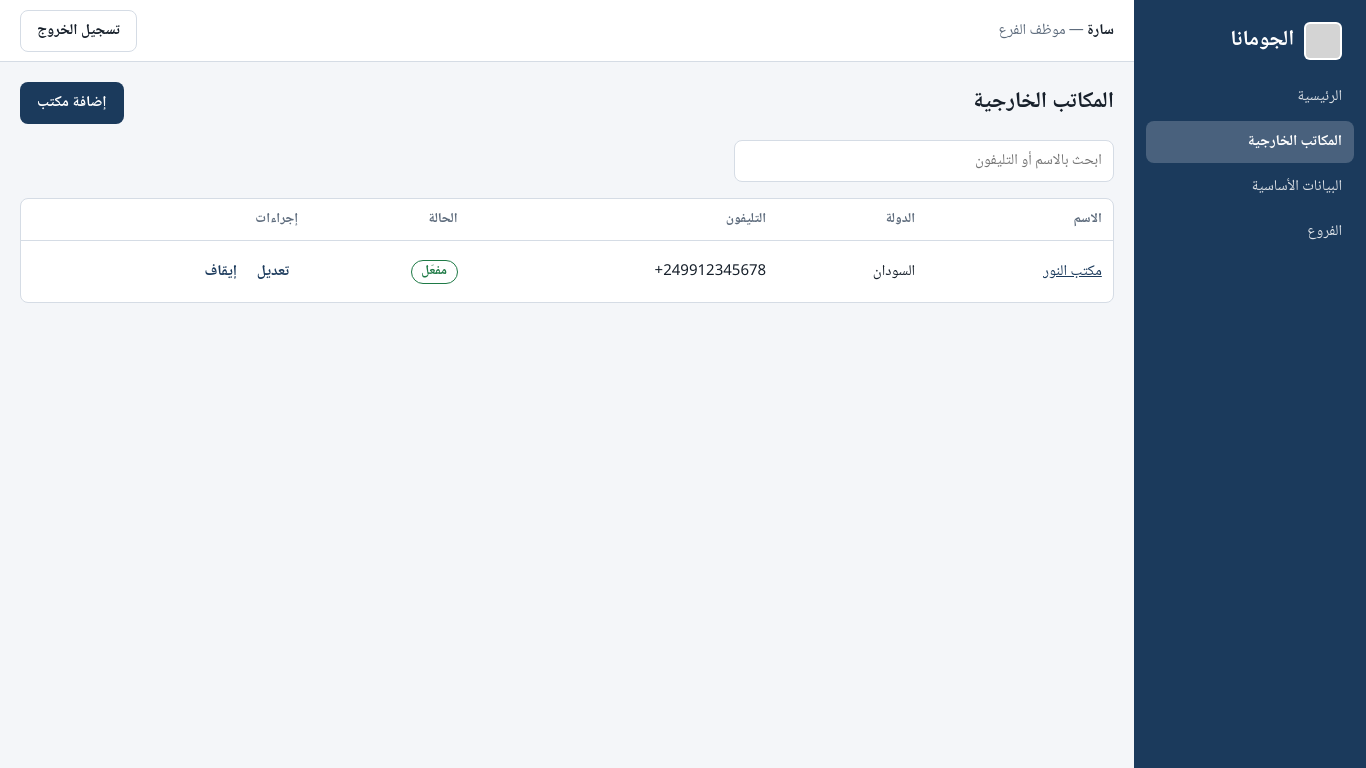
Test case: agents list › lists offices, links to their file and adds a new one
The image size is (1366, 768).
Click the button "إضافة مكتب" at (72, 103), box [20,82,124,124]
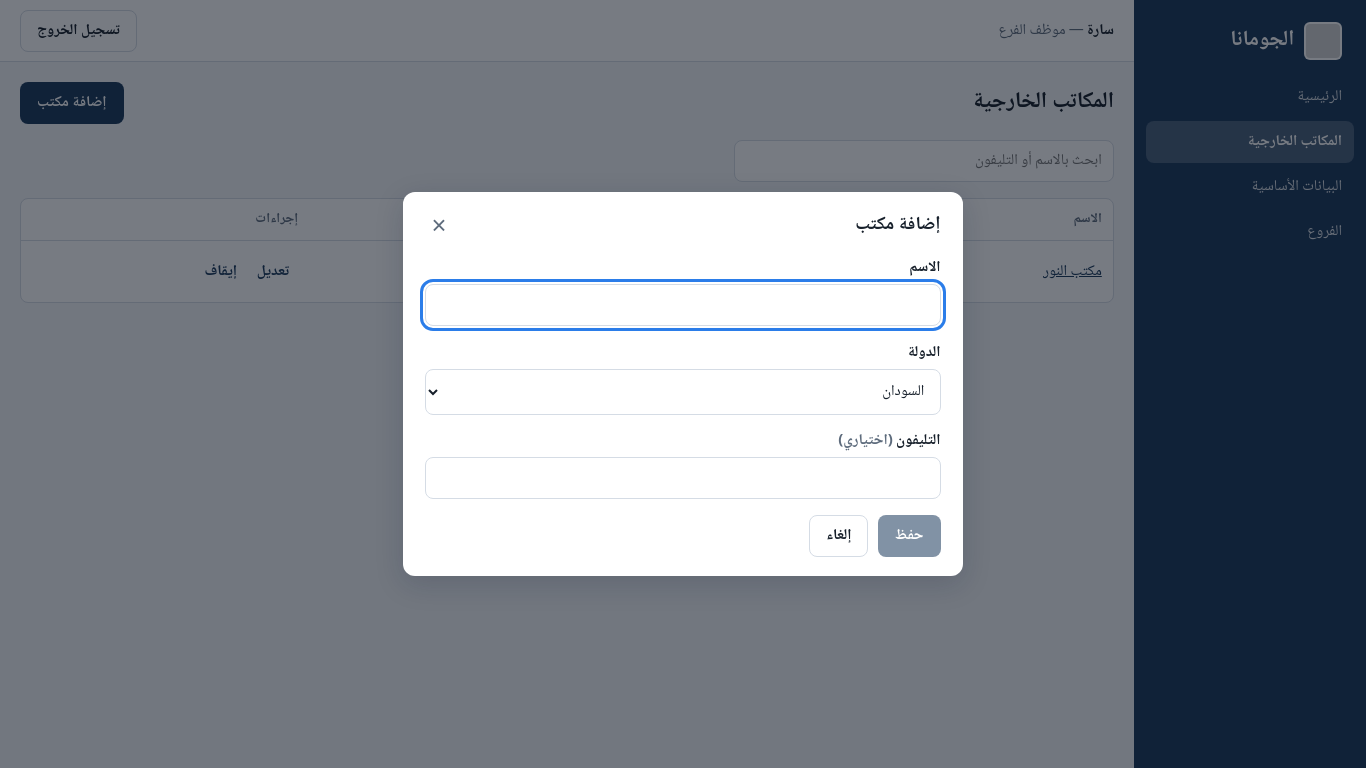
Type "مكتب الأمل" into the field labelled "الاسم" at (683, 305), box [425,284,941,326]
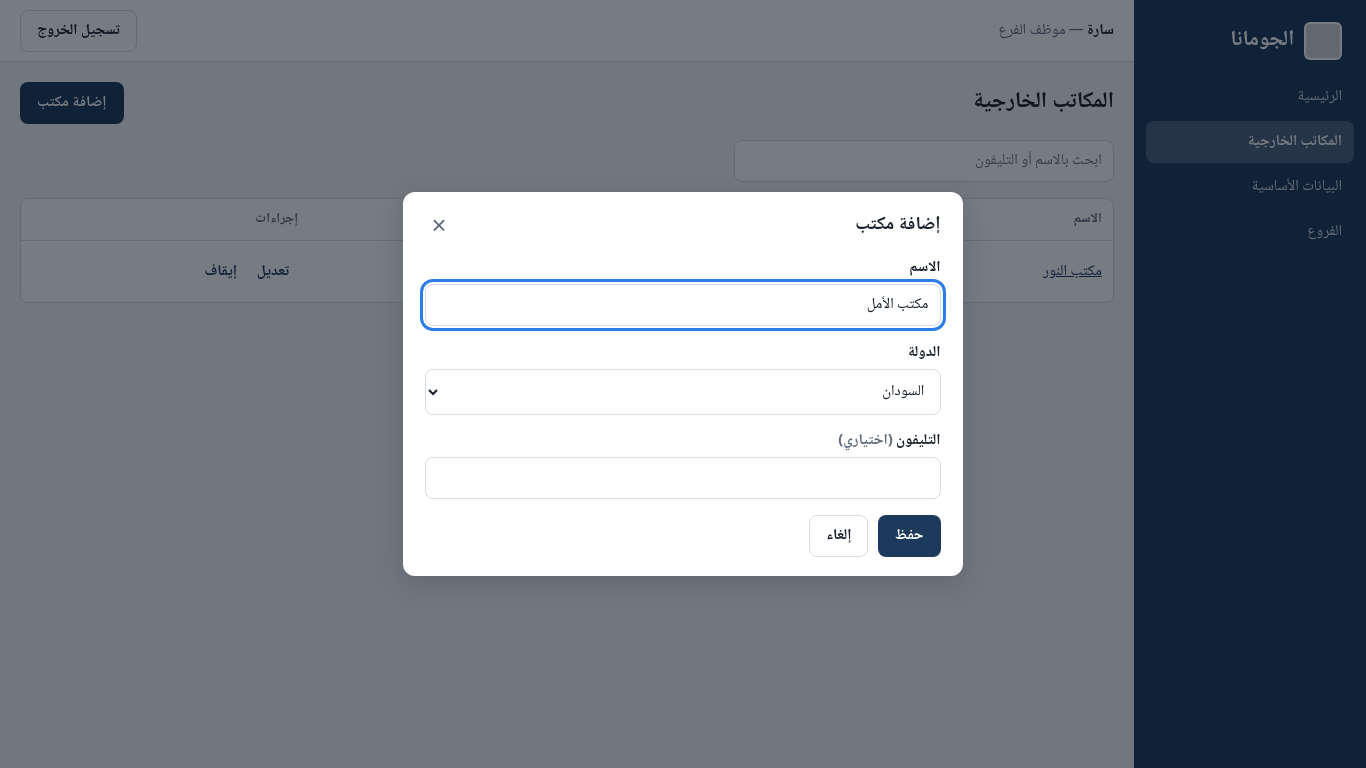
Click the button "حفظ" at (909, 536), box [878,515,941,557]
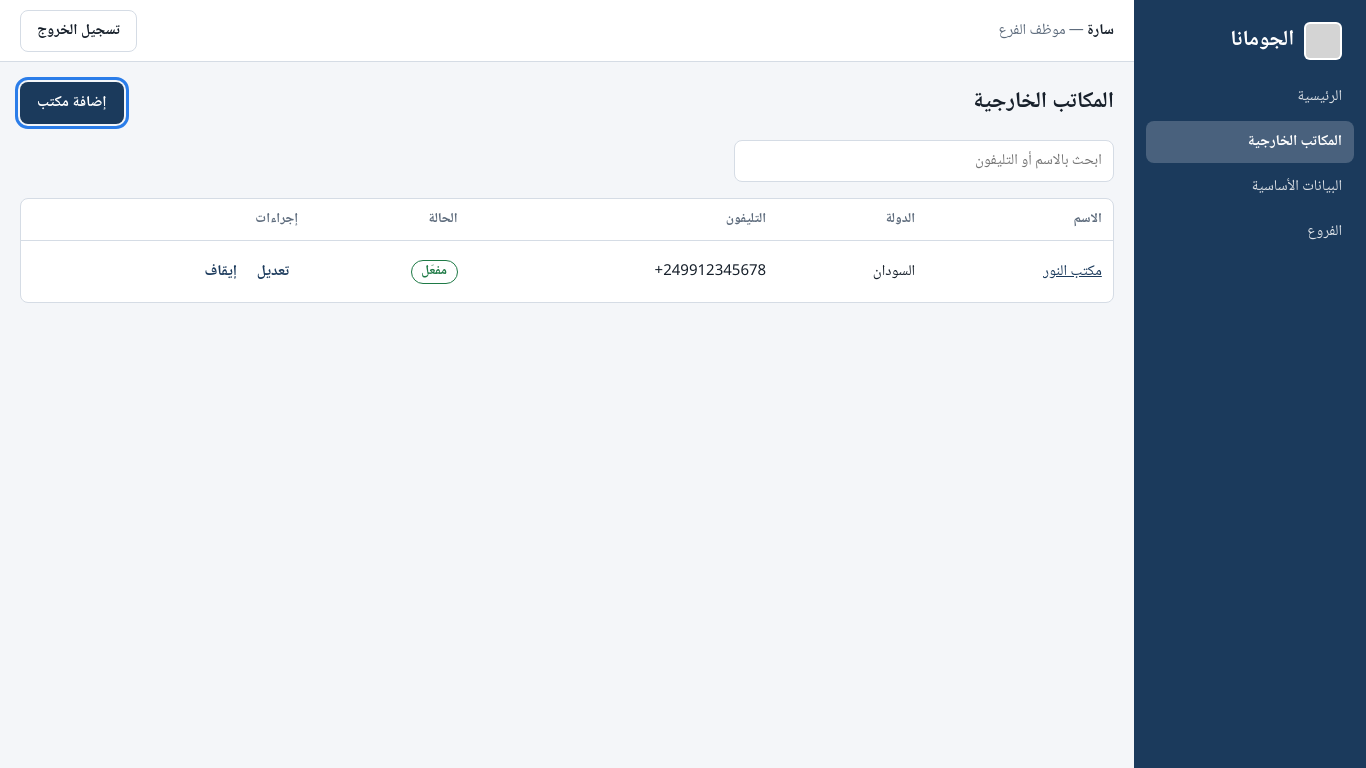
Now the dialog is gone
